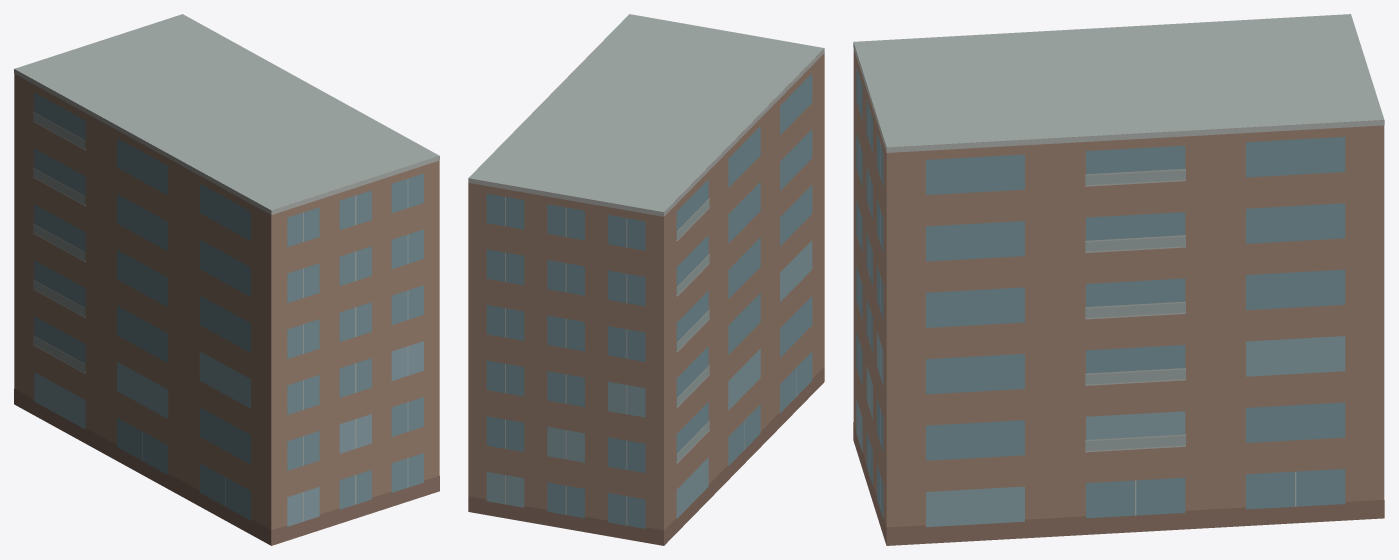
The model's file is survey-upis-32585633.glb.
The picture shows the model from 3 angles, left to right: view 1: azimuth 30°, elevation 25°; view 2: azimuth 150°, elevation 25°; view 3: azimuth 270°, elevation 25°; orthographic projection. The views are drawn at different scales.
Visible parts, largest first — view 1: survey-upis-32585633.tmp; view 2: survey-upis-32585633.tmp; view 3: survey-upis-32585633.tmp.
Part boxes in pixels (x1,y1,x2,y2): survey-upis-32585633.tmp: (14,14,439,545); survey-upis-32585633.tmp: (468,14,824,545); survey-upis-32585633.tmp: (853,14,1384,545).
Size of the model in its own units: 12.58 by 17.5 by 21.15.
